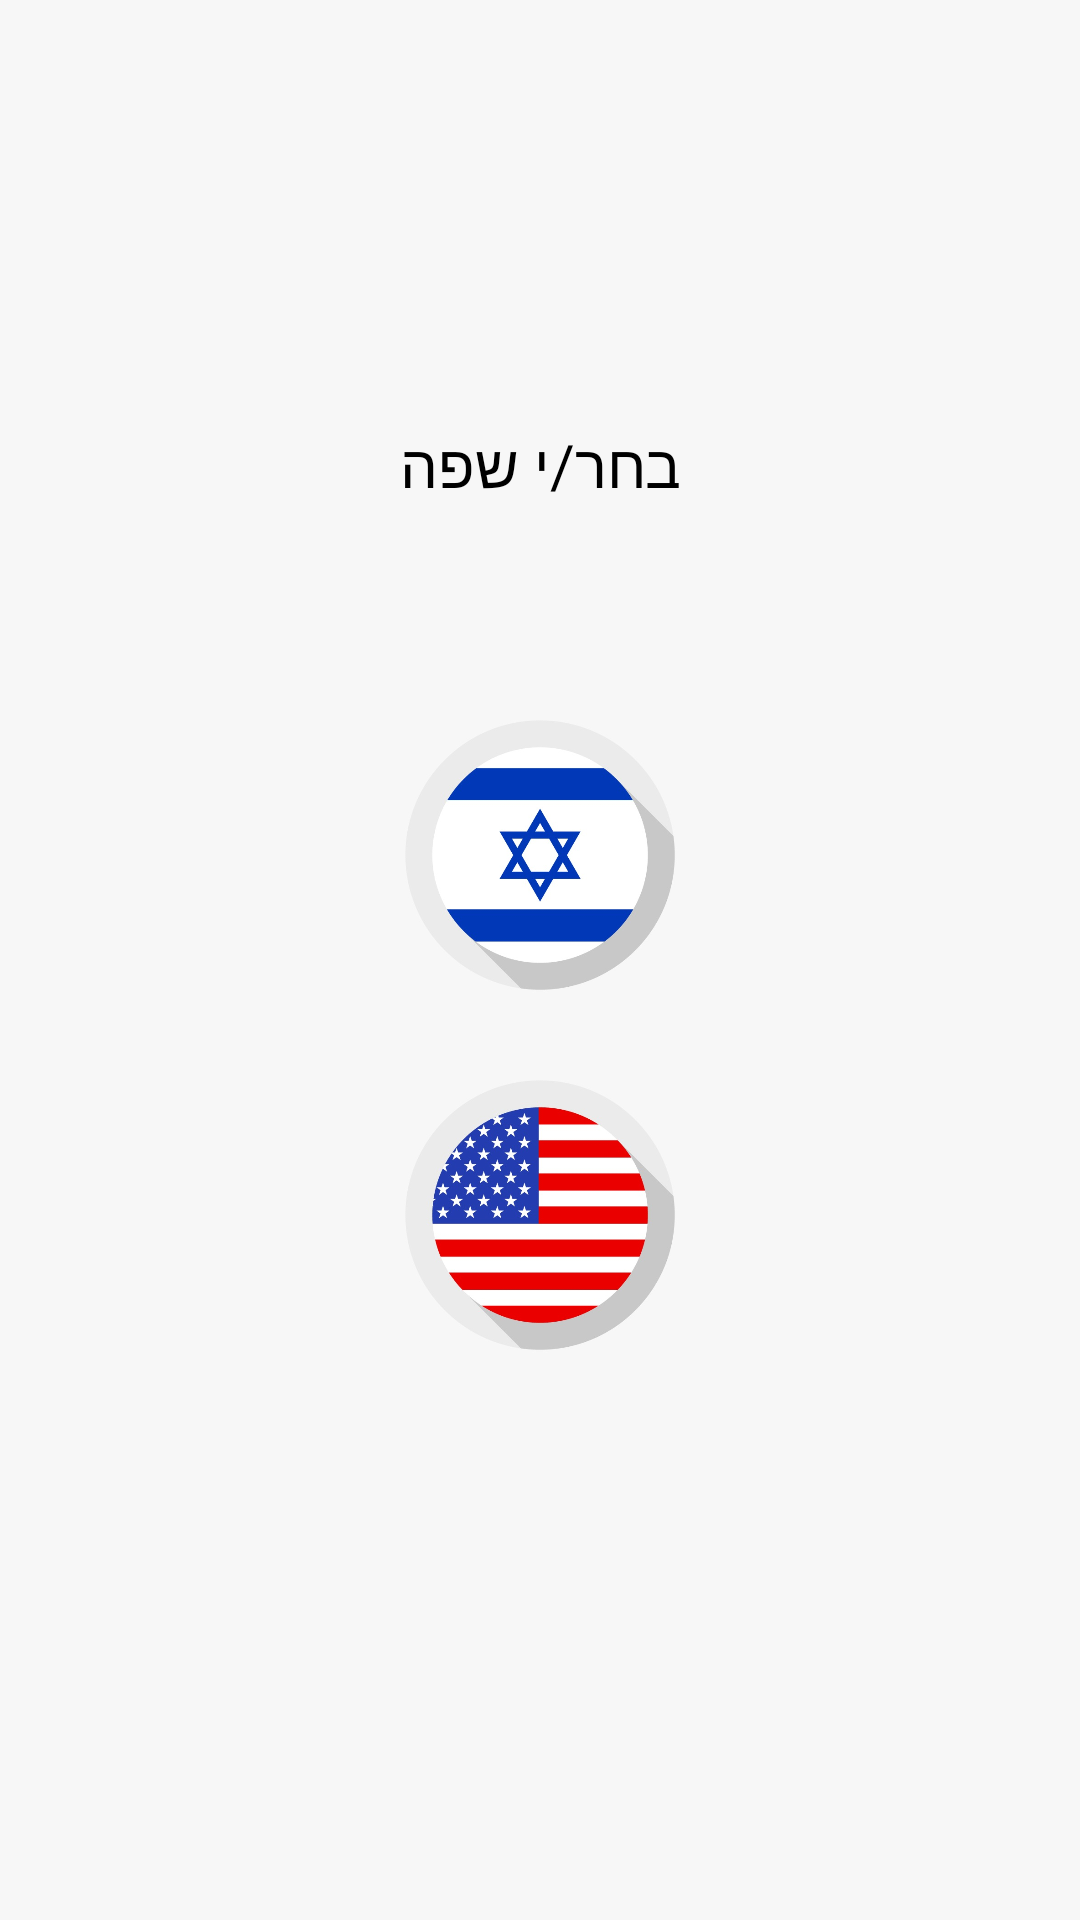

Screen size 1080x1920. Icon name, then its center in pixels as (x,y):
isreail: (561,879)
usa: (553,1228)
